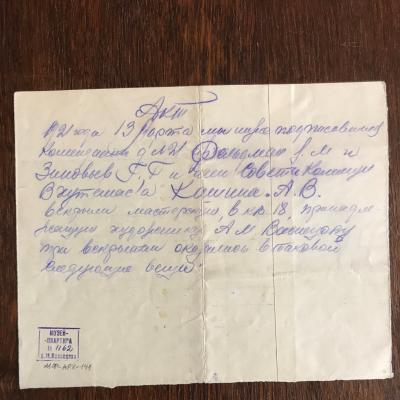document: (13, 82, 394, 391)
